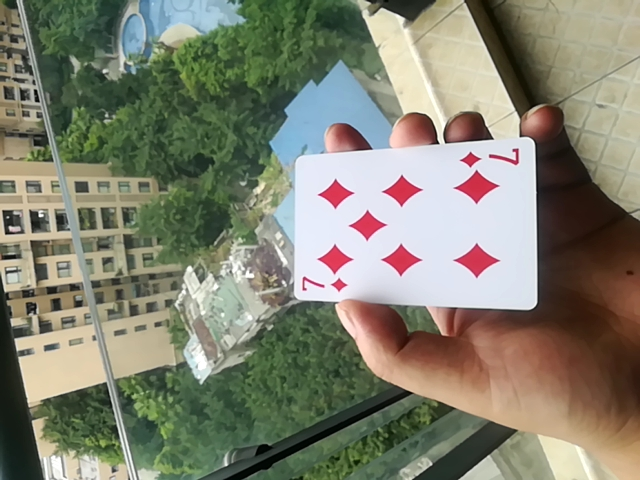fk 7: (284, 134, 540, 308)
